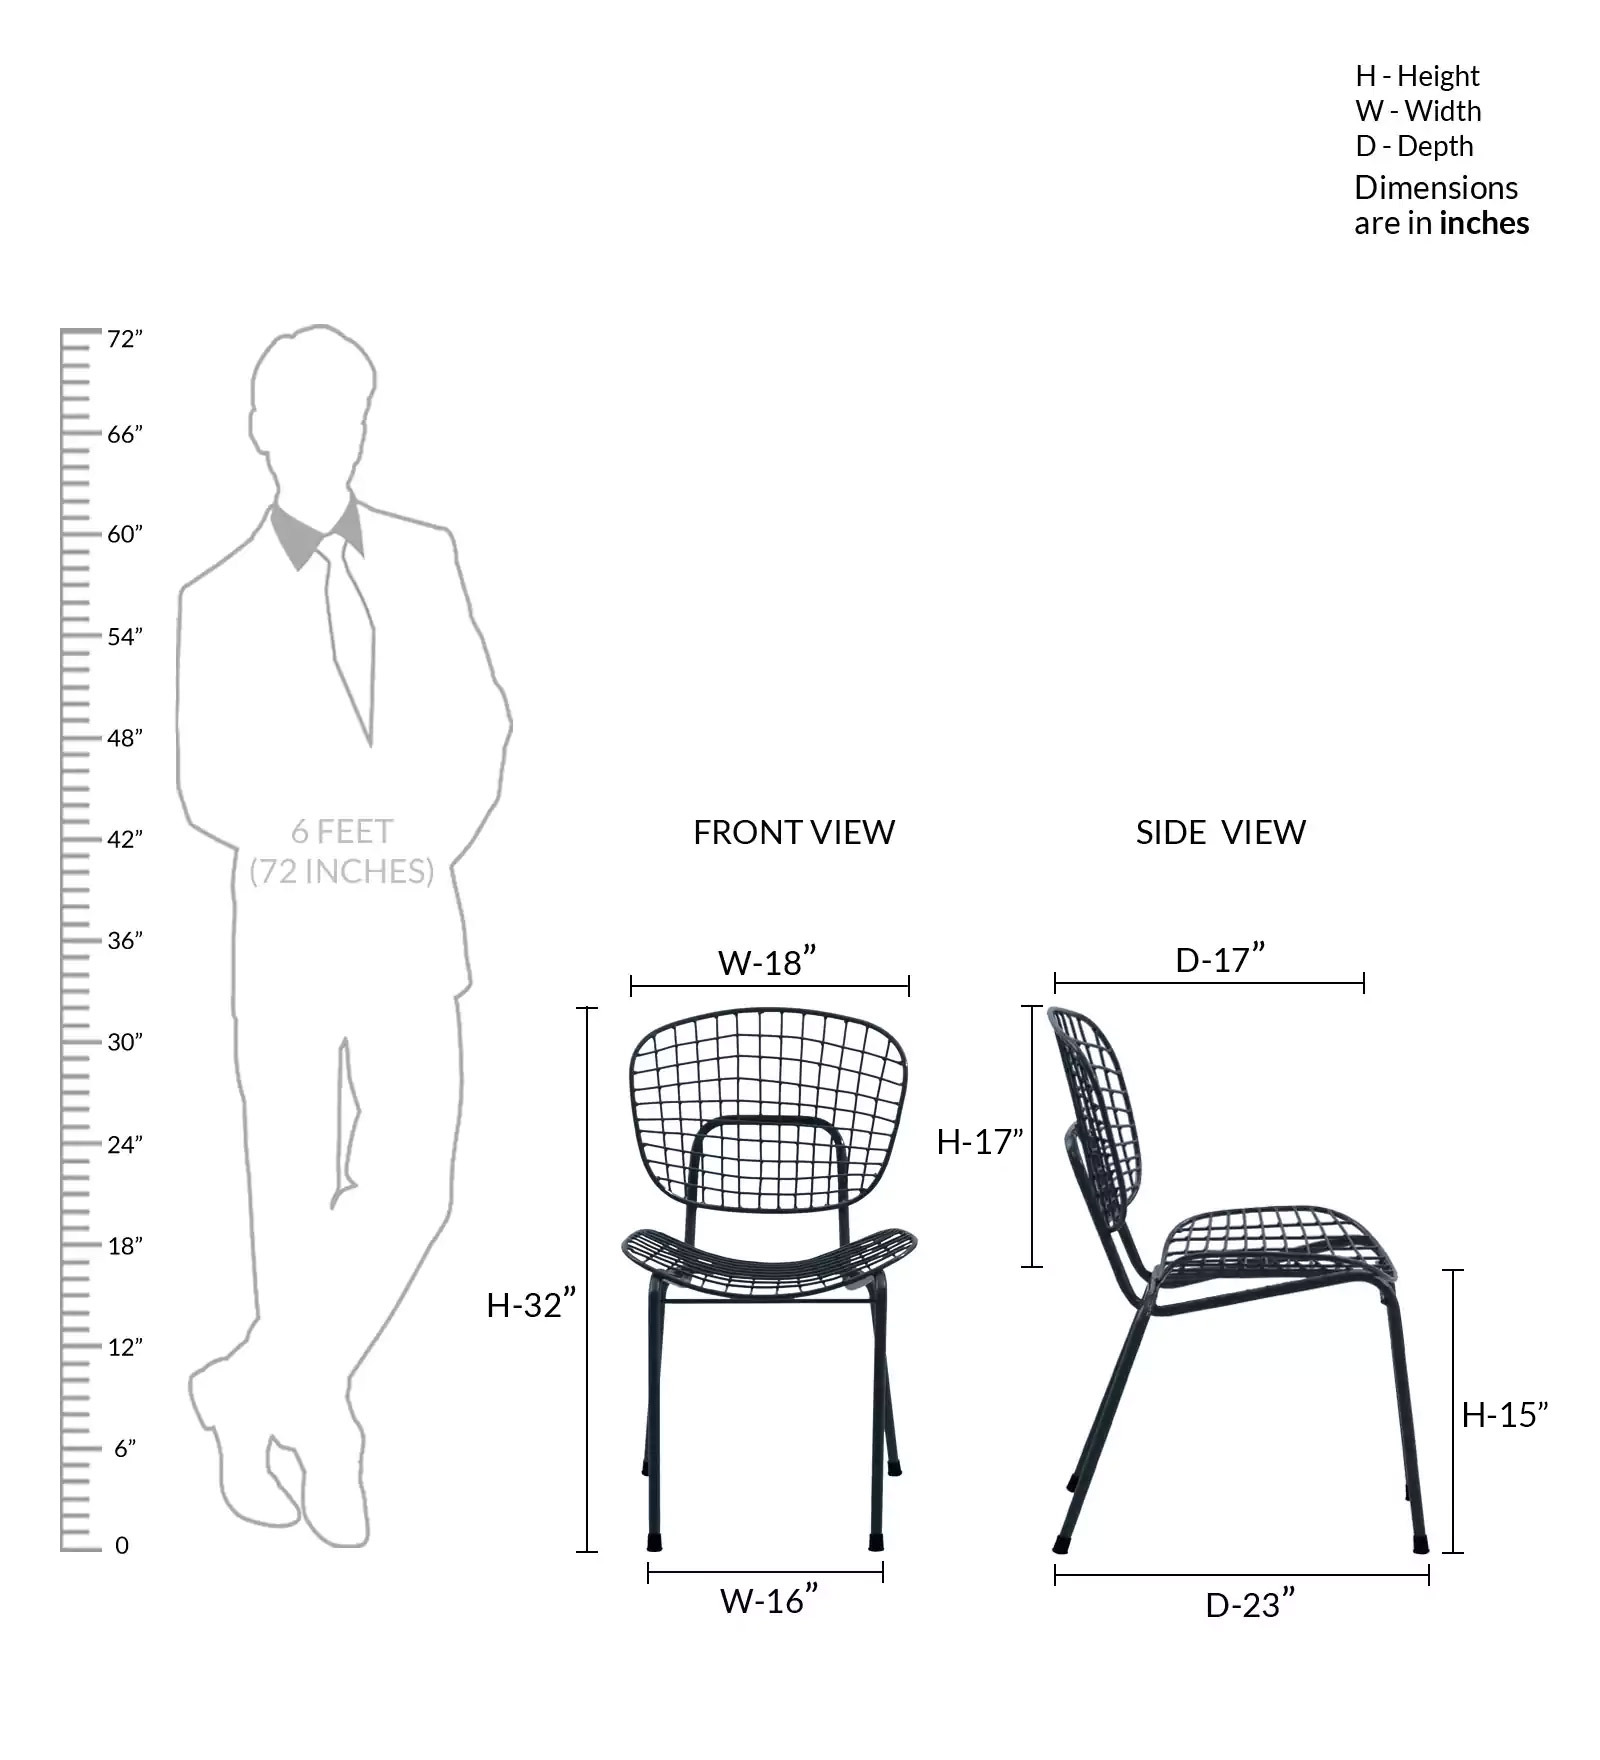Annette Metal Chair in Orange Color by Bohemiana: (605, 1000, 926, 1574)
